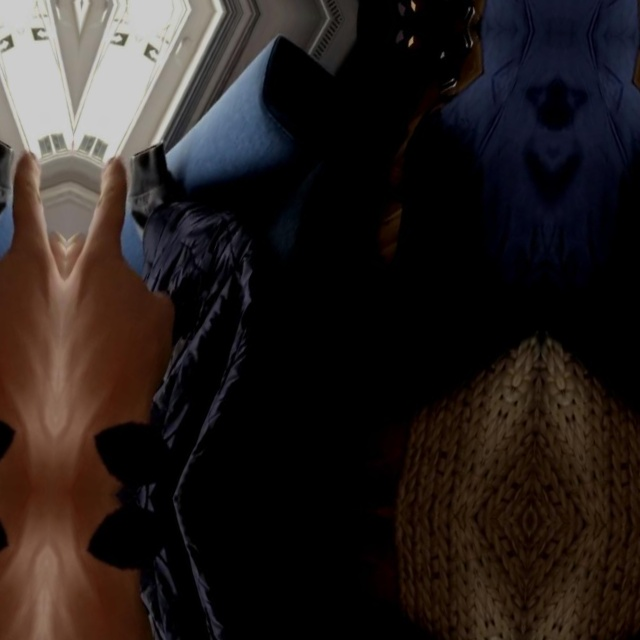Scissors: (0, 135, 73, 448)
